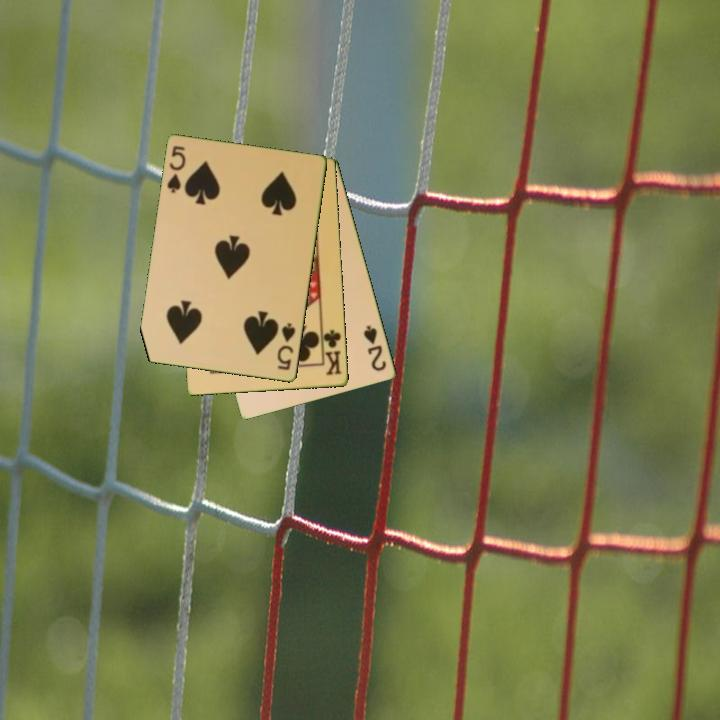2s: (360, 322, 389, 374)
5s: (164, 143, 189, 196), (274, 320, 298, 374)
Kc: (319, 325, 345, 378)
